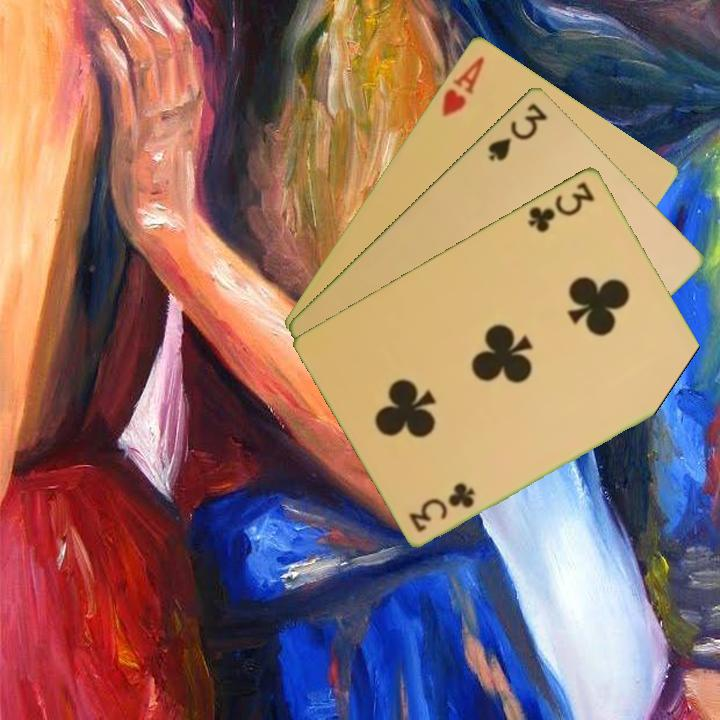3c: (524, 177, 598, 235), (406, 480, 478, 535)
3s: (484, 98, 551, 164)
Ah: (438, 51, 488, 120)
